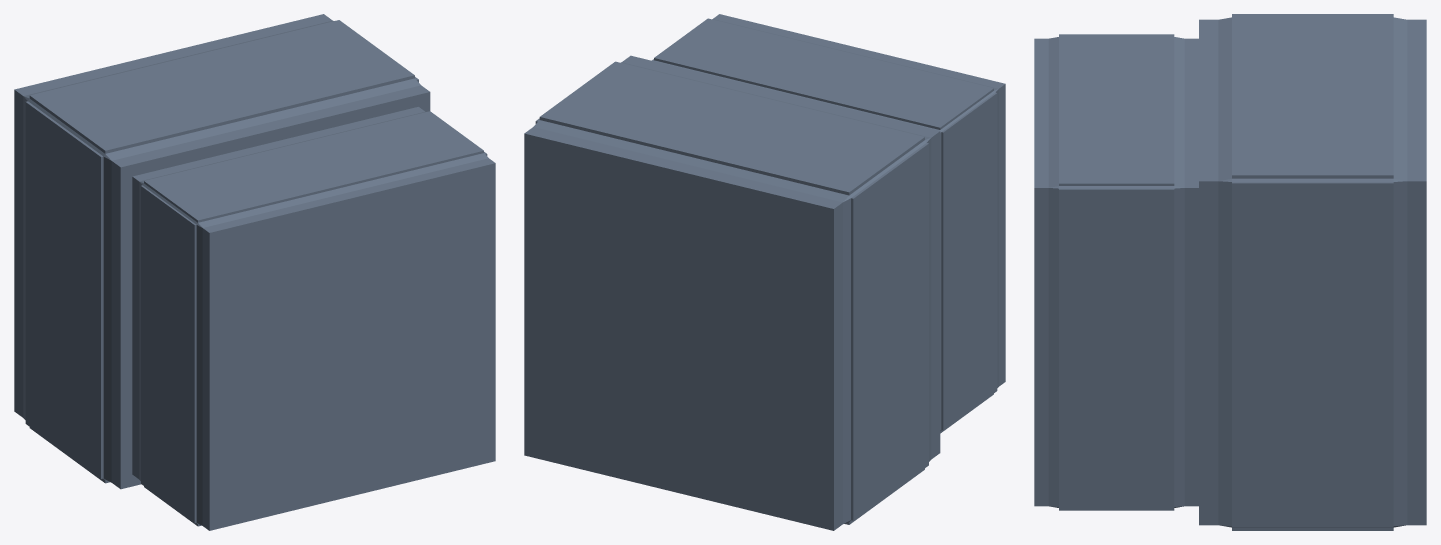
Rendered from bb_comp_PairConsole_MemoryTile.fbx.
3 views of the same model, side by side, from view 1: azimuth 30°, elevation 25°; view 2: azimuth 150°, elevation 25°; view 3: azimuth 270°, elevation 25° (orthographic). The views are drawn at different scales.
Parts seen in each view (by area): view 1: bb_comp_PairConsole_MemoryTile; view 2: bb_comp_PairConsole_MemoryTile; view 3: bb_comp_PairConsole_MemoryTile.
Part boxes in pixels (x1,y1,x2,y2): bb_comp_PairConsole_MemoryTile: (14, 14, 495, 530); bb_comp_PairConsole_MemoryTile: (524, 14, 1005, 530); bb_comp_PairConsole_MemoryTile: (1034, 14, 1426, 530).
Size of the model in its own units: 1 by 1 by 1.
